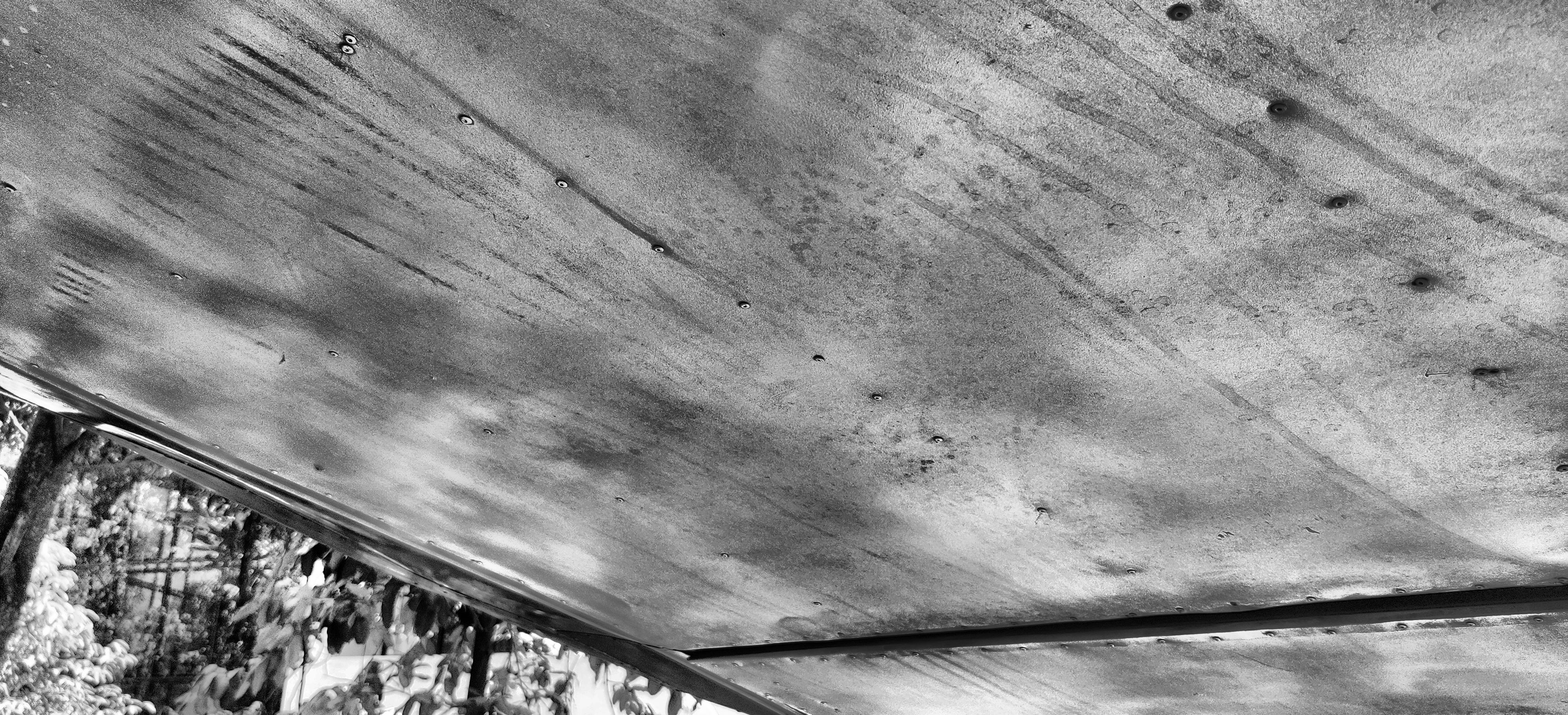missing-head: (4, 182, 17, 194), (1230, 600, 1239, 606)
